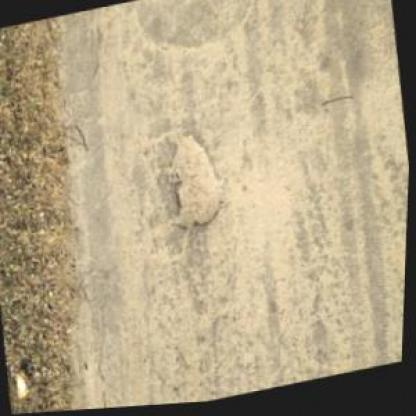pothole: (157, 127, 230, 240)
